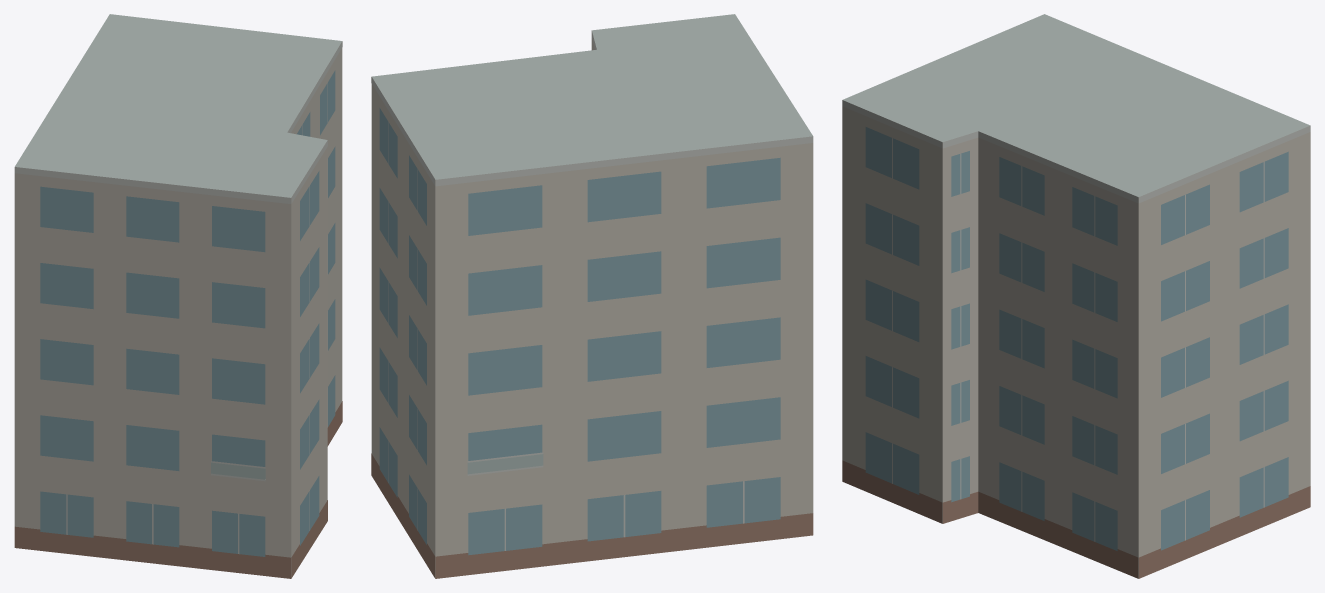
File: survey-upis-33013662.glb
The picture shows the model from 3 angles, left to right: view 1: azimuth 30°, elevation 25°; view 2: azimuth 150°, elevation 25°; view 3: azimuth 270°, elevation 25°; orthographic projection. The views are drawn at different scales.
Parts seen in each view (by area): view 1: survey-upis-33013662.tmp; view 2: survey-upis-33013662.tmp; view 3: survey-upis-33013662.tmp.
Part boxes in pixels (x1=…): survey-upis-33013662.tmp: x1=14, y1=14, x2=342, y2=578; survey-upis-33013662.tmp: x1=371, y1=14, x2=813, y2=578; survey-upis-33013662.tmp: x1=842, y1=14, x2=1310, y2=578.
Size of the model in its own units: 15.24 by 14.8 by 16.46.
